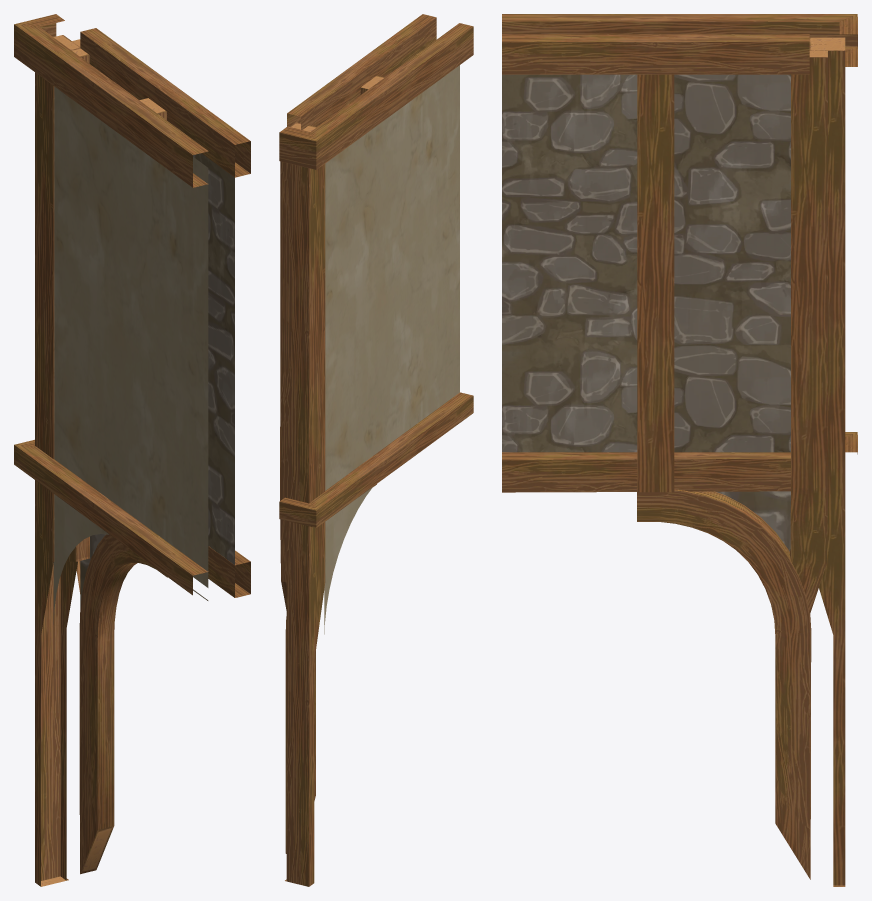
Rendered from Overhang_Side_UnevenBrick_Long_R.glb.
3 renders of one model, left to right at view 1: azimuth 30°, elevation 25°; view 2: azimuth 150°, elevation 25°; view 3: azimuth 270°, elevation 25°, orthographic. The views are drawn at different scales.
Parts seen in each view (by area): view 1: Overhang_Side_UnevenBrick_Long_R; view 2: Overhang_Side_UnevenBrick_Long_R; view 3: Overhang_Side_UnevenBrick_Long_R.
Part boxes in pixels (bbox=[...]): Overhang_Side_UnevenBrick_Long_R: bbox=[14, 14, 250, 886]; Overhang_Side_UnevenBrick_Long_R: bbox=[279, 14, 473, 886]; Overhang_Side_UnevenBrick_Long_R: bbox=[502, 14, 857, 886].
Bounding box in the file's own units: 0.4794 × 6.12 × 2.31.
3 materials, 3 textured.
